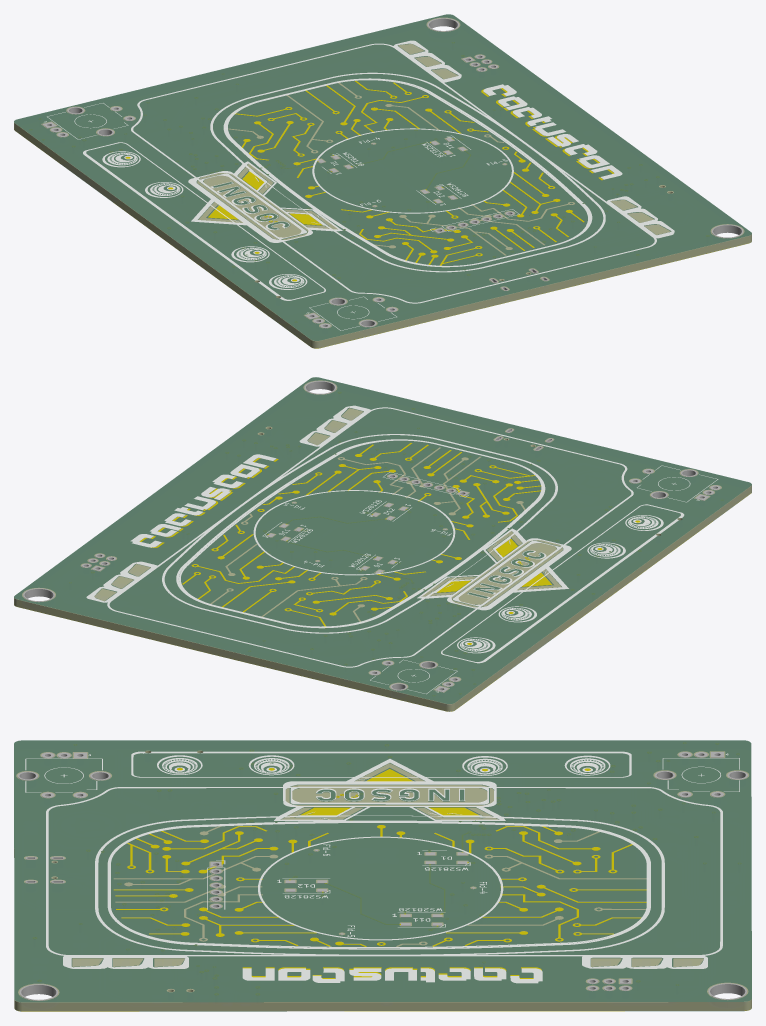
File: cactuscon-12-badge-2024.glb
3 views of the same model, one above another, from view 1: azimuth 30°, elevation 25°; view 2: azimuth 150°, elevation 25°; view 3: azimuth 270°, elevation 25° (orthographic). The views are drawn at different scales.
Parts seen in each view (by area): view 1: =>[0:1:1:7], =>[0:1:1:9], =>[0:1:1:5], =>[0:1:1:2]; view 2: =>[0:1:1:7], =>[0:1:1:9], =>[0:1:1:5], =>[0:1:1:2]; view 3: =>[0:1:1:7], =>[0:1:1:9], =>[0:1:1:5], =>[0:1:1:2].
Part boxes in pixels (box(x1,y1,x2,y2)): =>[0:1:1:7]: box(14, 14, 751, 348); =>[0:1:1:9]: box(14, 15, 751, 348); =>[0:1:1:5]: box(44, 40, 674, 330); =>[0:1:1:2]: box(17, 18, 748, 348); =>[0:1:1:7]: box(14, 377, 751, 711); =>[0:1:1:9]: box(14, 378, 751, 711); =>[0:1:1:5]: box(86, 405, 718, 694); =>[0:1:1:2]: box(14, 381, 745, 711); =>[0:1:1:7]: box(14, 740, 751, 1011); =>[0:1:1:9]: box(14, 741, 751, 1011); =>[0:1:1:5]: box(25, 751, 739, 983); =>[0:1:1:2]: box(16, 745, 748, 1011).
Bounding box in the file's own units: 0.0955 × 0.00164 × 0.1137.
Materials: 4 (4 with a texture image).
